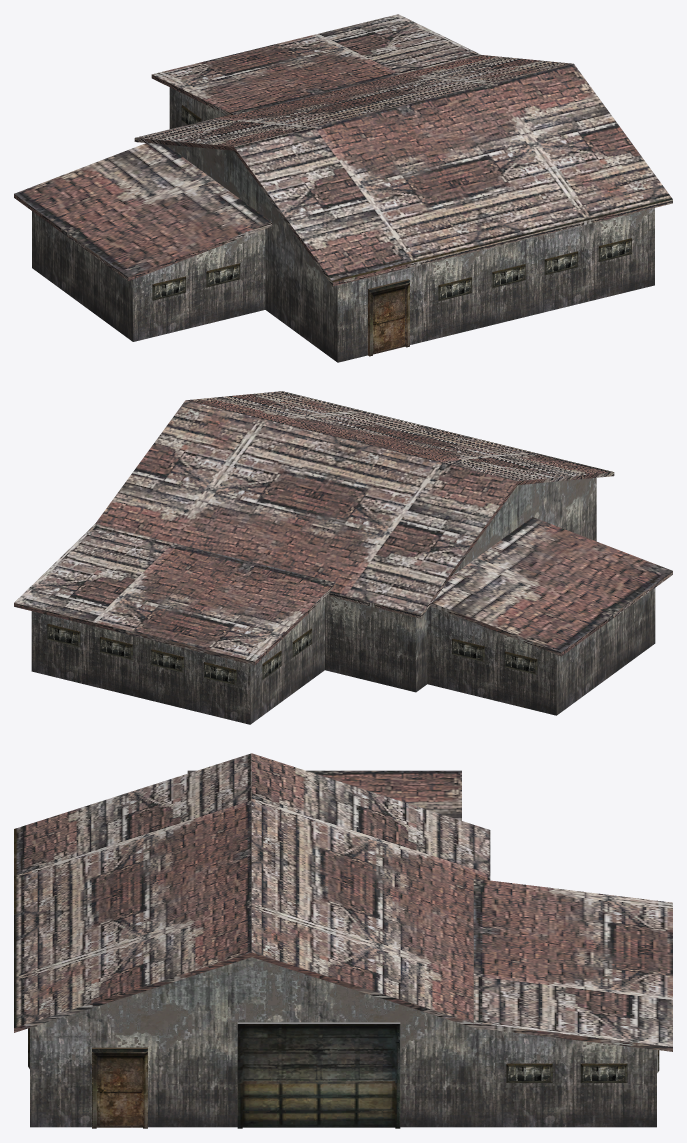
The model's file is warehs08.glb.
3 views of the same model, one above another, from view 1: azimuth 30°, elevation 25°; view 2: azimuth 150°, elevation 25°; view 3: azimuth 270°, elevation 25° (orthographic). The views are drawn at different scales.
Visible parts, largest first — view 1: _warehs08; view 2: _warehs08; view 3: _warehs08.
Boxes of the visible parts, <box> form: _warehs08: <box>14,14,672,362</box>; _warehs08: <box>14,391,672,724</box>; _warehs08: <box>14,753,672,1128</box>.
Bounding box in the file's own units: 21.64 × 6.62 × 21.79.
1 material, 1 textured.
